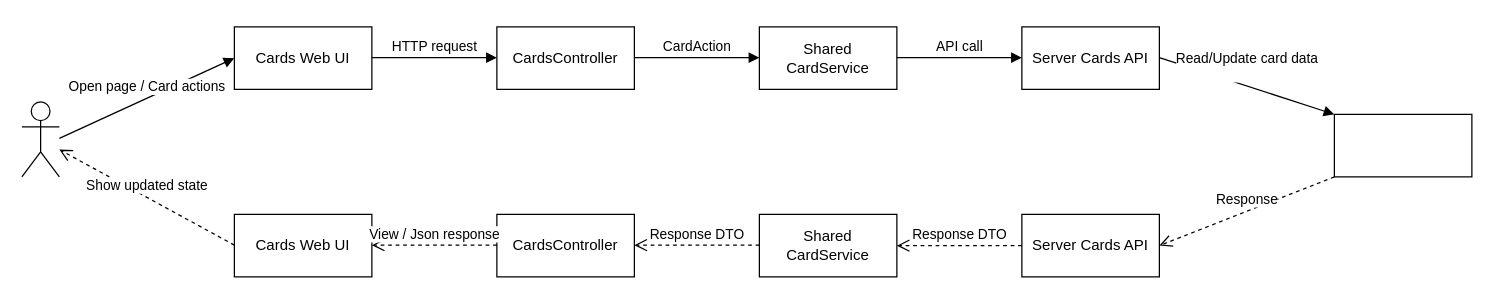
Some shapes in this 1494 by 299 pixel diagram are drawn without their labels. The shapes that lost their labels are listed below. From the top down, each one's centre as x and y in pixels, then its label:
point (40, 139): User
point (1402, 145): Database
